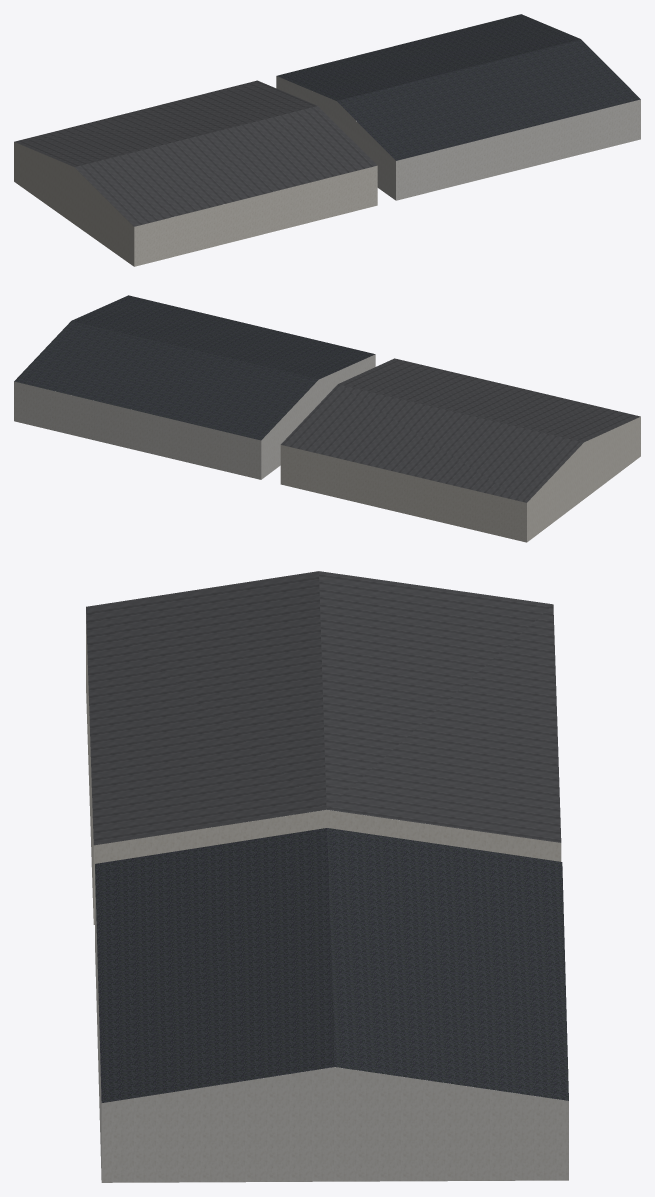
The picture shows the model from 3 angles, top to bottom: view 1: azimuth 30°, elevation 25°; view 2: azimuth 150°, elevation 25°; view 3: azimuth 270°, elevation 25°; orthographic projection. The views are drawn at different scales.
Visible parts, largest first — view 1: bldg_6004321316_roof, bldg_6004321296_roof, bldg_6004321296, bldg_6004321316; view 2: bldg_6004321316_roof, bldg_6004321296_roof, bldg_6004321296, bldg_6004321316; view 3: bldg_6004321316_roof, bldg_6004321296_roof, bldg_6004321316, bldg_6004321296.
Part boxes in pixels (<box>): bldg_6004321316_roof: <box>277,14,640,160</box>; bldg_6004321296_roof: <box>14,80,377,226</box>; bldg_6004321296: <box>14,142,377,266</box>; bldg_6004321316: <box>276,76,640,200</box>; bldg_6004321316_roof: <box>14,295,375,440</box>; bldg_6004321296_roof: <box>280,358,640,502</box>; bldg_6004321296: <box>280,416,640,542</box>; bldg_6004321316: <box>14,354,375,479</box>; bldg_6004321316_roof: <box>95,828,568,1102</box>; bldg_6004321296_roof: <box>86,571,561,845</box>; bldg_6004321316: <box>95,874,568,1182</box>; bldg_6004321296: <box>86,614,561,924</box>.
Bounding box in the file's own units: 159 × 17.06 × 65.13.
4 materials, 4 textured.
